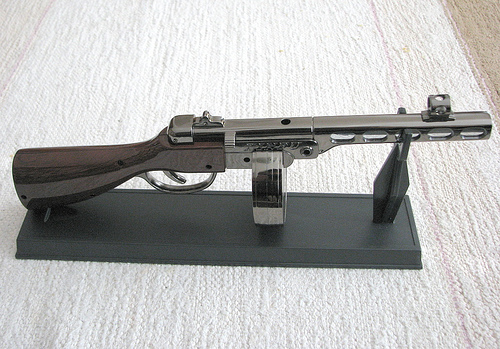rifle: (13, 92, 493, 240)
